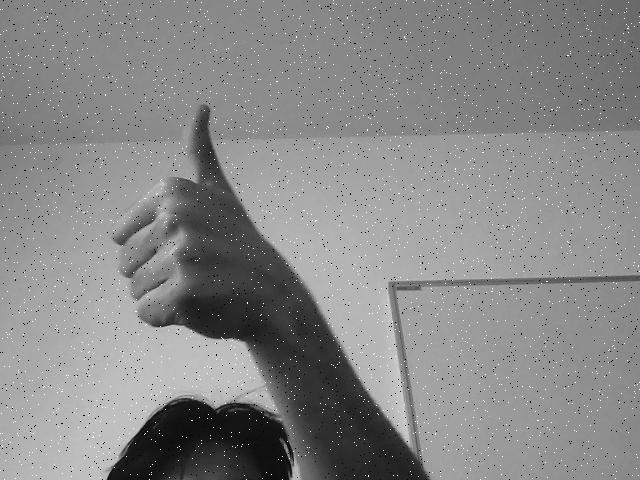good: (98, 99, 362, 345)
